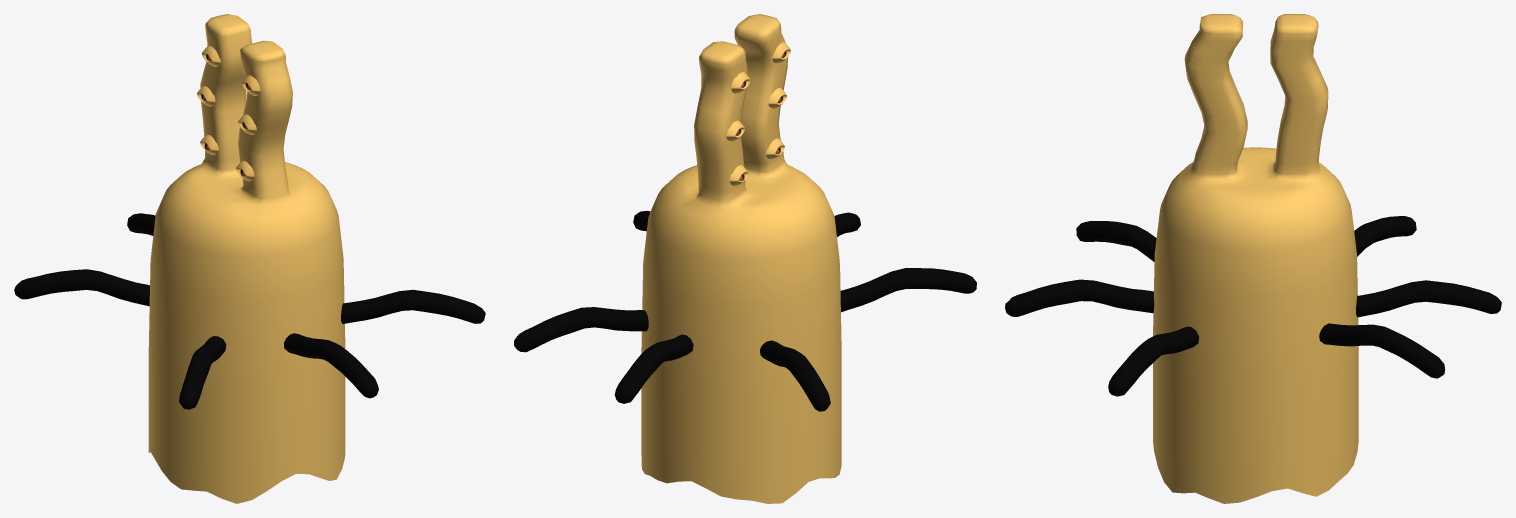
Rendered from SpongeBOB.fbx.
3 views of the same model, side by side, from view 1: azimuth 30°, elevation 25°; view 2: azimuth 150°, elevation 25°; view 3: azimuth 270°, elevation 25° (orthographic). The views are drawn at different scales.
Visible parts, largest first — view 1: main_body, pCylinder11, pCylinder9, pCylinder12, pCylinder8, pCylinder13; view 2: main_body, pCylinder10, pCylinder8, pCylinder13, pCylinder9; view 3: main_body, pCylinder12, pCylinder13, pCylinder10, pCylinder11, pCylinder8, pCylinder9.
Boxes of the visible parts, x1,y1,x2,y2 form: main_body: [148, 14, 345, 503]; pCylinder11: [341, 289, 485, 323]; pCylinder9: [14, 269, 149, 306]; pCylinder12: [284, 333, 378, 398]; pCylinder8: [179, 336, 226, 409]; pCylinder13: [127, 213, 155, 235]; main_body: [641, 14, 841, 503]; pCylinder10: [514, 307, 648, 352]; pCylinder8: [840, 268, 976, 312]; pCylinder13: [614, 334, 693, 403]; pCylinder9: [760, 340, 830, 411]; main_body: [1153, 14, 1358, 503]; pCylinder12: [1005, 279, 1154, 316]; pCylinder13: [1356, 280, 1501, 317]; pCylinder10: [1319, 323, 1445, 378]; pCylinder11: [1108, 326, 1199, 396]; pCylinder8: [1076, 221, 1156, 261]; pCylinder9: [1354, 216, 1416, 256].
Bounding box in the file's own units: 11.52 × 14.26 × 14.37.
Materials: 4 (3 with a texture image).
